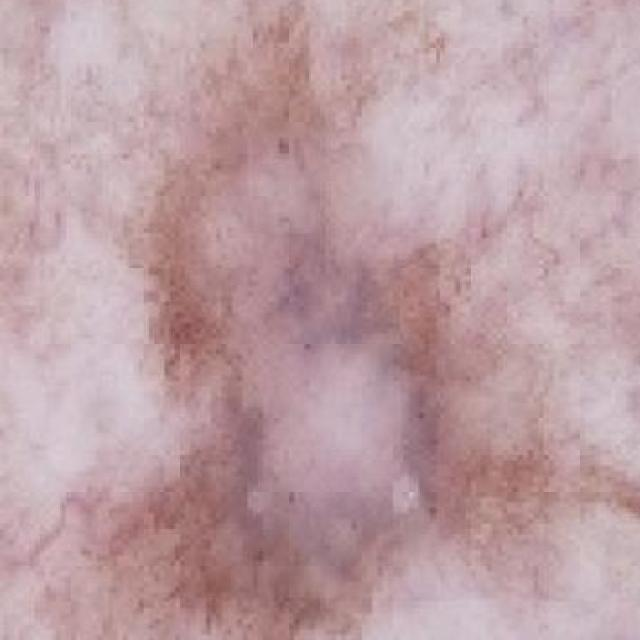BKL: (56, 0, 640, 640)
